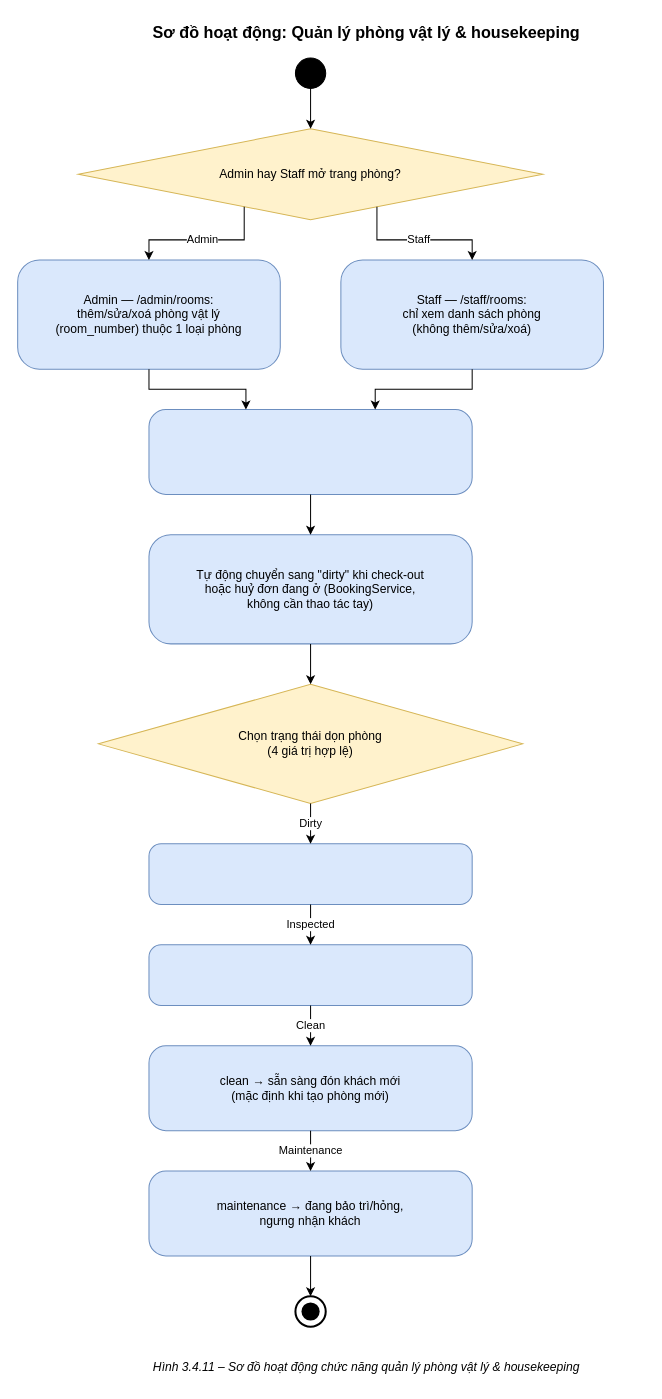
This 662x1399 diagram has some shape labels left out. The centre of each missing label's shape, as x and y in pixels:
Cập nhật housekeeping_status (PATCH .../rooms/{id}/housekeeping): (x=310, y=451)
dirty → phòng bẩn, cần dọn: (x=310, y=873)
inspected → đã kiểm tra, đạt chuẩn: (x=310, y=974)
